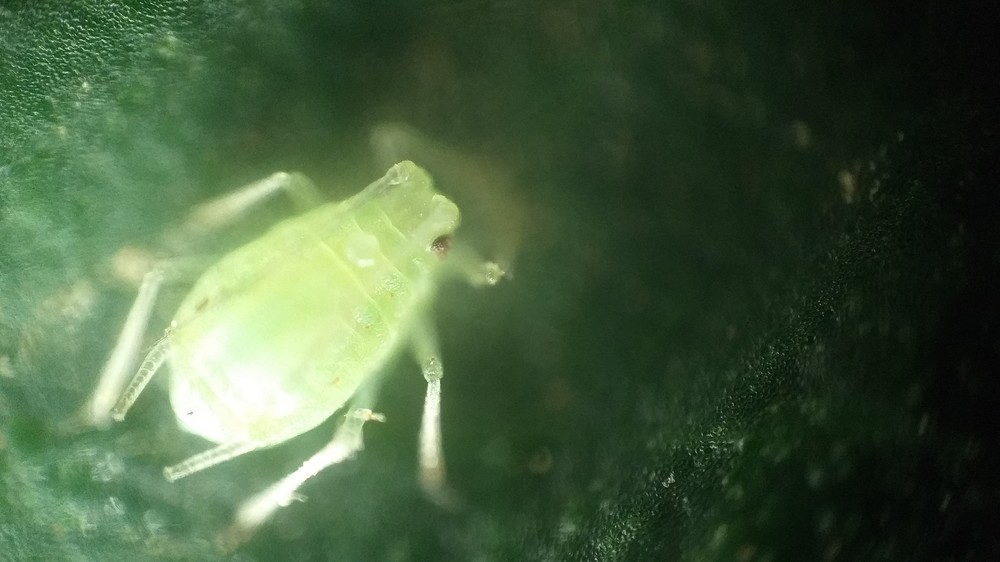Pulgon: (66, 103, 528, 519)
